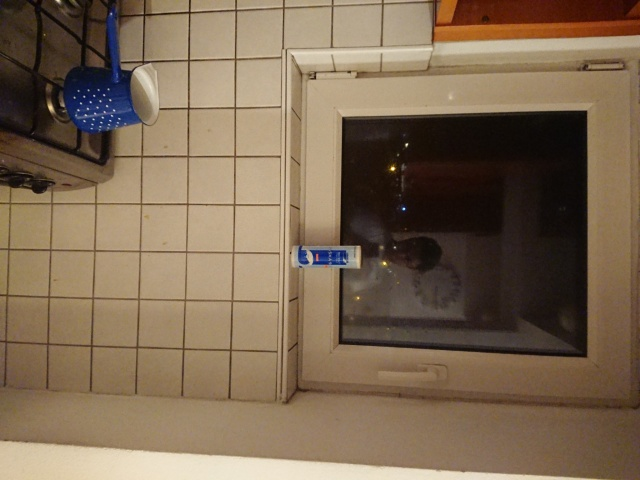Solana Pag Fine Sea Salt 250g: (289, 243, 364, 270)
